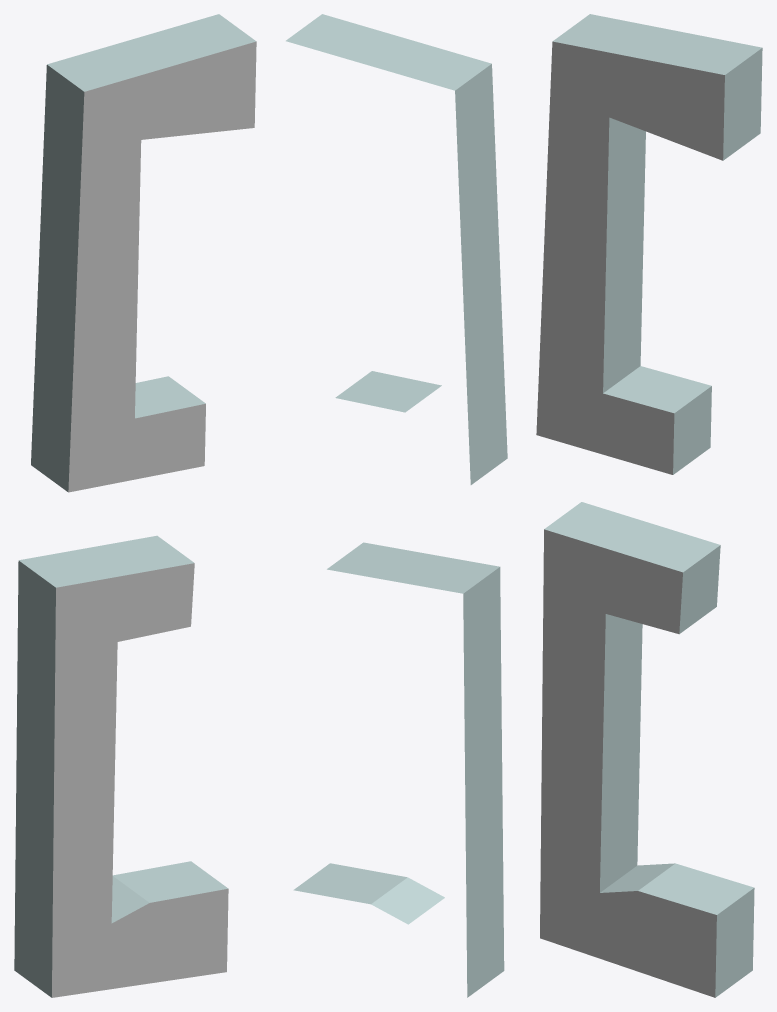
The picture shows the model from 3 angles, left to right: view 1: azimuth 30°, elevation 25°; view 2: azimuth 150°, elevation 25°; view 3: azimuth 330°, elevation 25°; orthographic projection.
Parts seen in each view (by area): view 1: 0_1_0_1_2_1_2_2_3; view 2: 0_1_0_1_2_1_2_2_3; view 3: 0_1_0_1_2_1_2_2_3.
Boxes of the visible parts, left/top/right/bottom form: 0_1_0_1_2_1_2_2_3: left=14, top=14, right=256, bottom=997; 0_1_0_1_2_1_2_2_3: left=286, top=14, right=507, bottom=997; 0_1_0_1_2_1_2_2_3: left=536, top=14, right=762, bottom=997.
Bounding box in the file's own units: 8.99 × 41.18 × 3.8.
